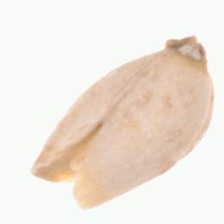L1: (30, 134, 96, 210), (162, 34, 209, 73)
L2: (31, 34, 214, 210)
